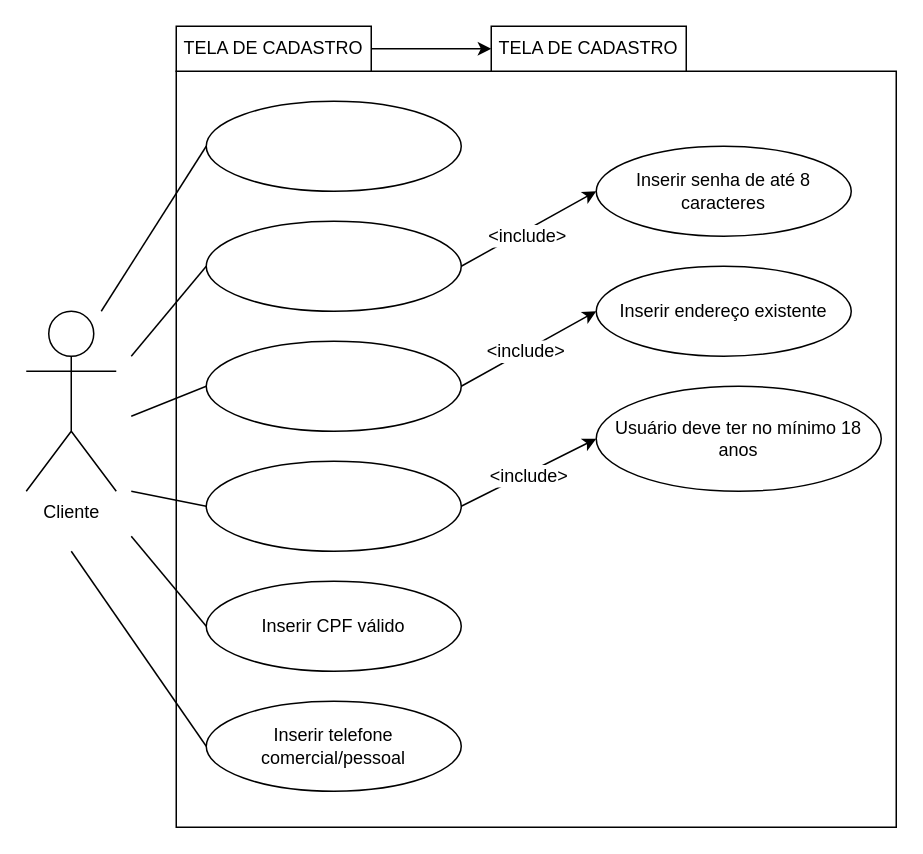
Image size: 923x854. Some labels were removed from this diagram. The shapes that lost their labels are listed below. From the top down, each one's centre as x and y in pixels, then its label:
At pixel 333 145: "Inserir e-mail válido".
At pixel 333 265: "Inserir senha".
At pixel 333 385: "Inserir endereço".
At pixel 333 505: "Inserir data de nascimento".
